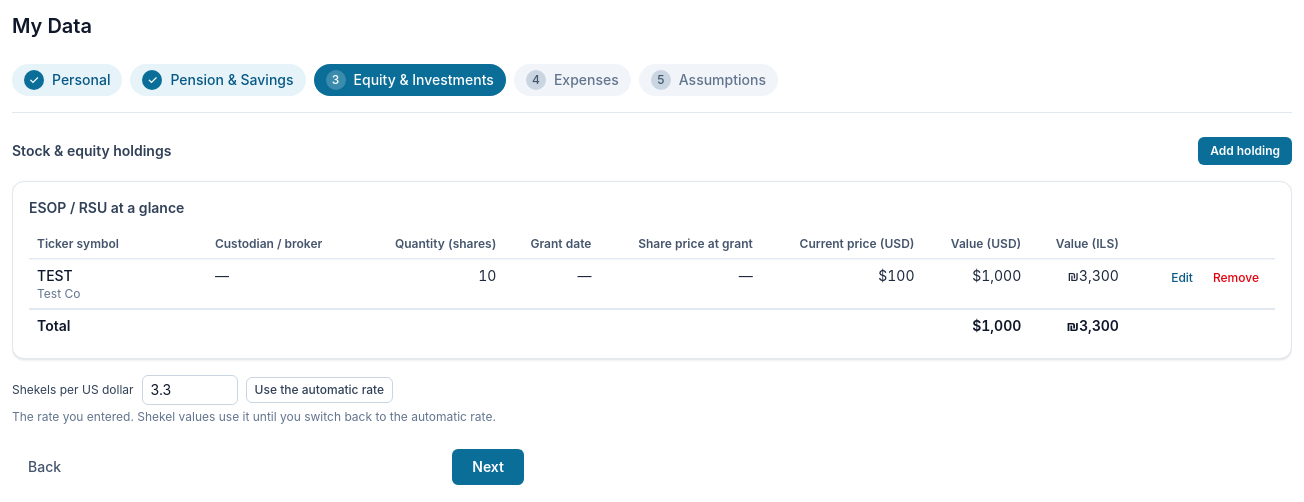
Test: My Data summary tables — dollar rate › goes back to the automatic rate when the field is emptied
Clear the number field labelled "Shekels per US dollar": (190, 390) [142,375,238,405]
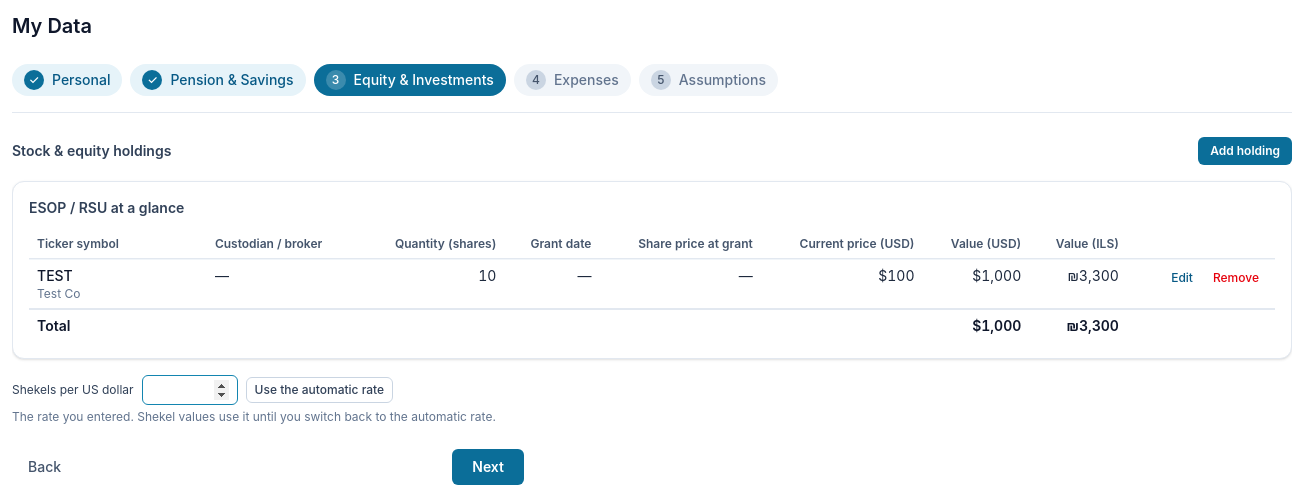
Press Tab
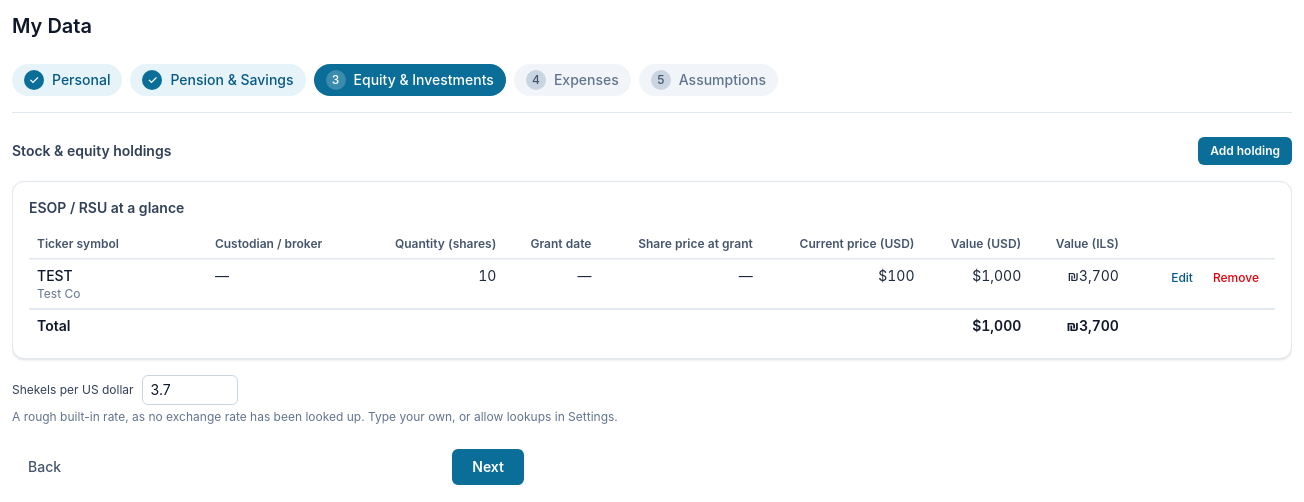
Expected: the number field labelled "Shekels per US dollar" holds "3.7", [142,375,238,405]
Expected: the text "The rate you entered" is gone
